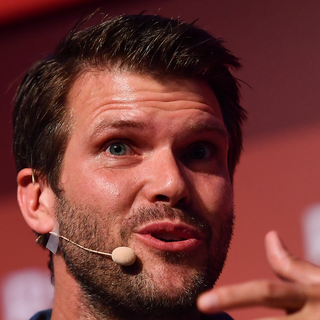eye: (96, 136, 148, 171), (178, 138, 219, 165)
